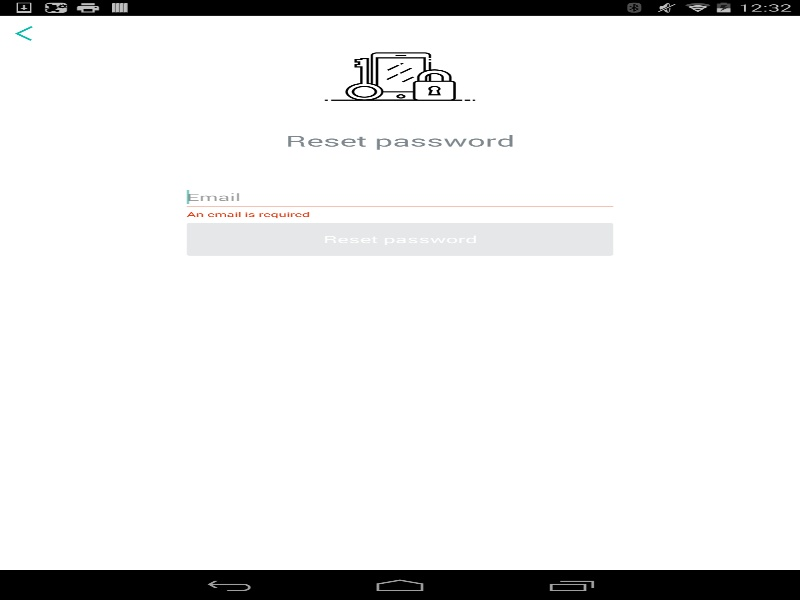Input: (186, 187, 613, 207)
